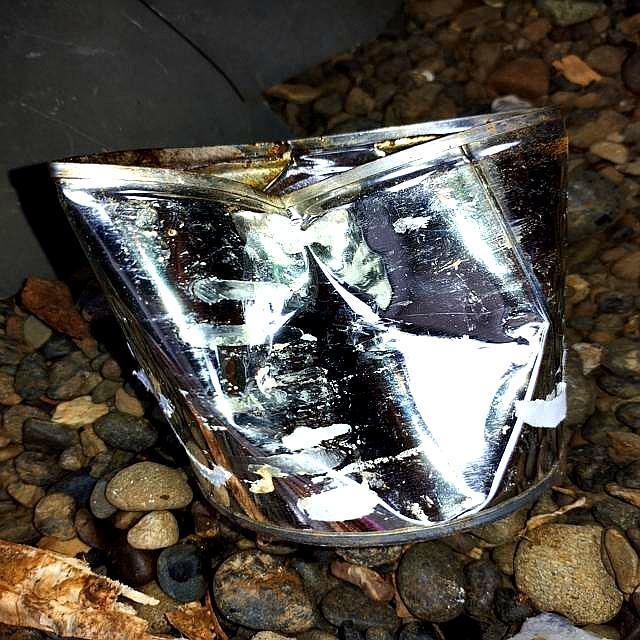Non-biodegradable: (48, 104, 572, 548)
